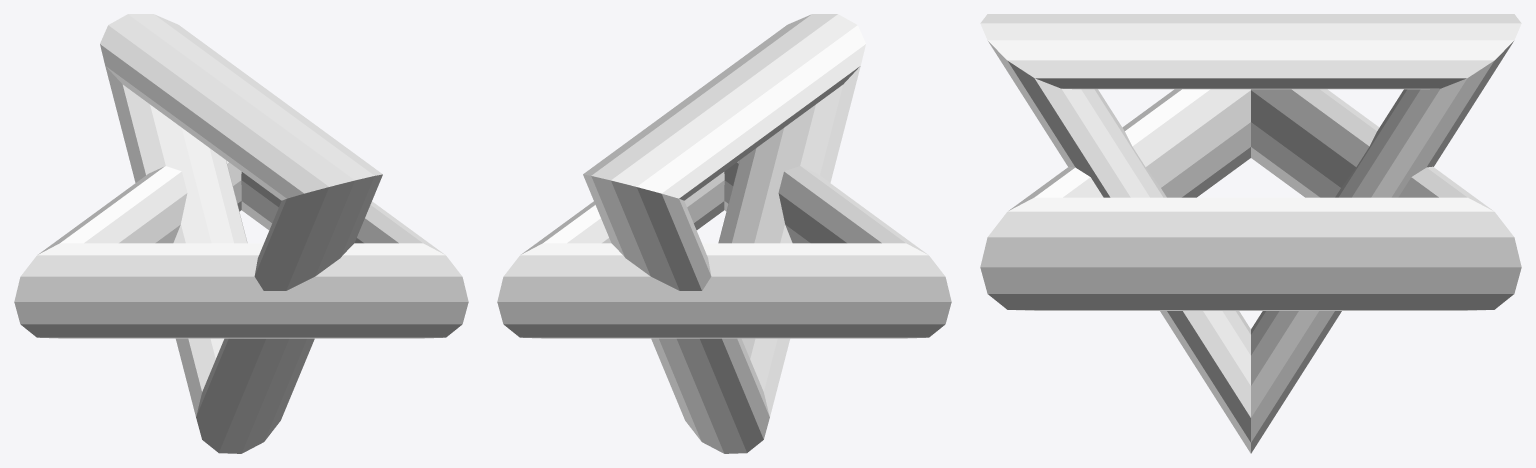
The model's file is BigBullet.obj.
The picture shows the model from 3 angles, left to right: view 1: azimuth 30°, elevation 25°; view 2: azimuth 150°, elevation 25°; view 3: azimuth 270°, elevation 25°; orthographic projection. The views are drawn at different scales.
Visible parts, largest first — view 1: Torus.001; view 2: Torus.001; view 3: Torus.001.
Boxes of the visible parts, x1,y1,x2,y2 form: Torus.001: (14,14,468,453); Torus.001: (497,14,951,453); Torus.001: (980,14,1521,453).
Bounding box in the file's own units: 0.4688 × 0.4688 × 0.5413.
